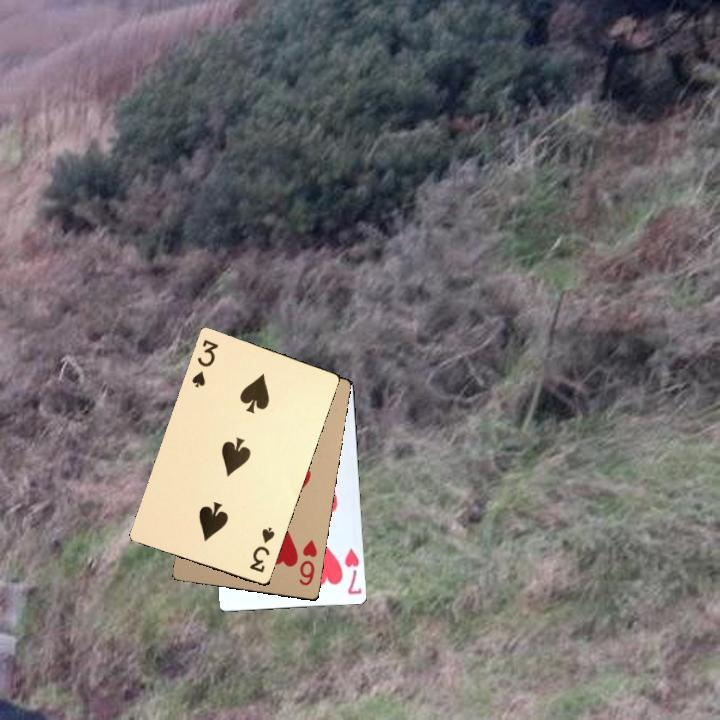3s: (188, 335, 221, 390), (246, 523, 277, 575)
6h: (295, 537, 320, 588)
7h: (340, 545, 363, 596)
